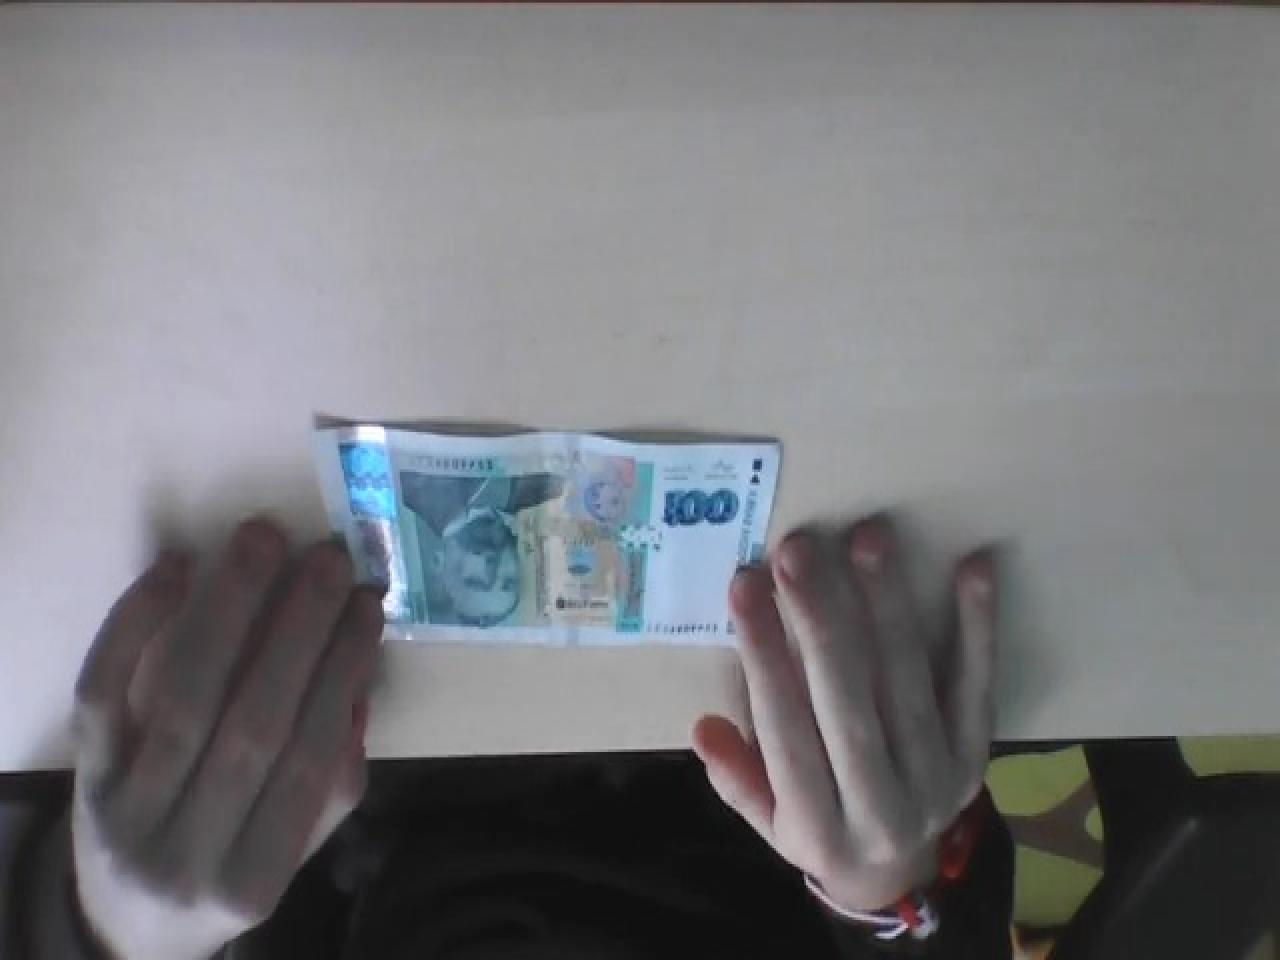100leva: (312, 422, 782, 650), (660, 485, 740, 530)
